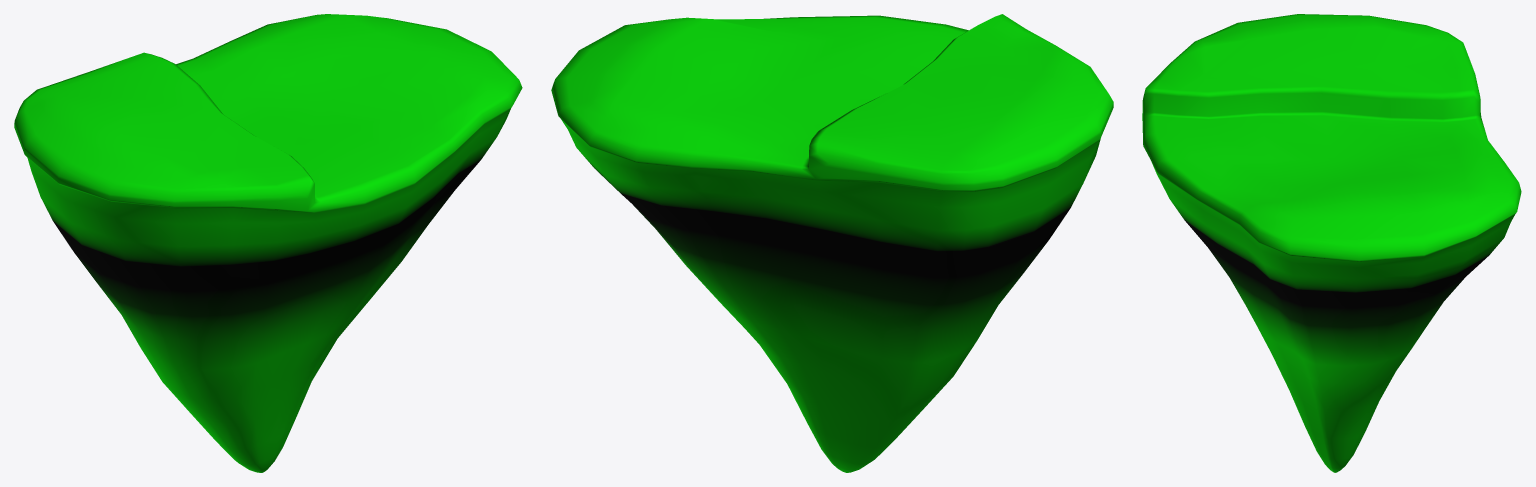
The model's file is Island with cliff thing.fbx.
3 views of the same model, side by side, from view 1: azimuth 30°, elevation 25°; view 2: azimuth 150°, elevation 25°; view 3: azimuth 270°, elevation 25° (orthographic). The views are drawn at different scales.
Visible parts, largest first — view 1: polySurface2; view 2: polySurface2; view 3: polySurface2.
Boxes of the visible parts, x1,y1,x2,y2 form: polySurface2: (14, 14, 522, 472); polySurface2: (551, 14, 1113, 472); polySurface2: (1142, 14, 1521, 472).
Bounding box in the file's own units: 146 × 115 × 107.
